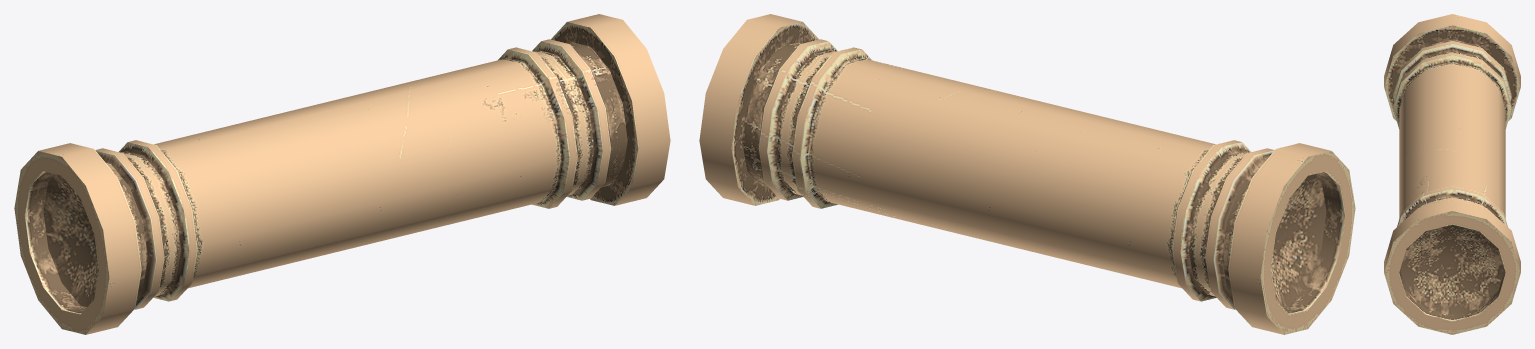
Rendered from pipe19.FBX.
The picture shows the model from 3 angles, left to right: view 1: azimuth 30°, elevation 25°; view 2: azimuth 150°, elevation 25°; view 3: azimuth 270°, elevation 25°; orthographic projection. The views are drawn at different scales.
Visible parts, largest first — view 1: pipe19; view 2: pipe19; view 3: pipe19.
Part boxes in pixels (left/top/right/bottom): pipe19: left=14, top=14, right=670, bottom=334; pipe19: left=699, top=14, right=1355, bottom=334; pipe19: left=1384, top=14, right=1520, bottom=334.
Bounding box in the file's own units: 47.89 × 14.06 × 14.06.
